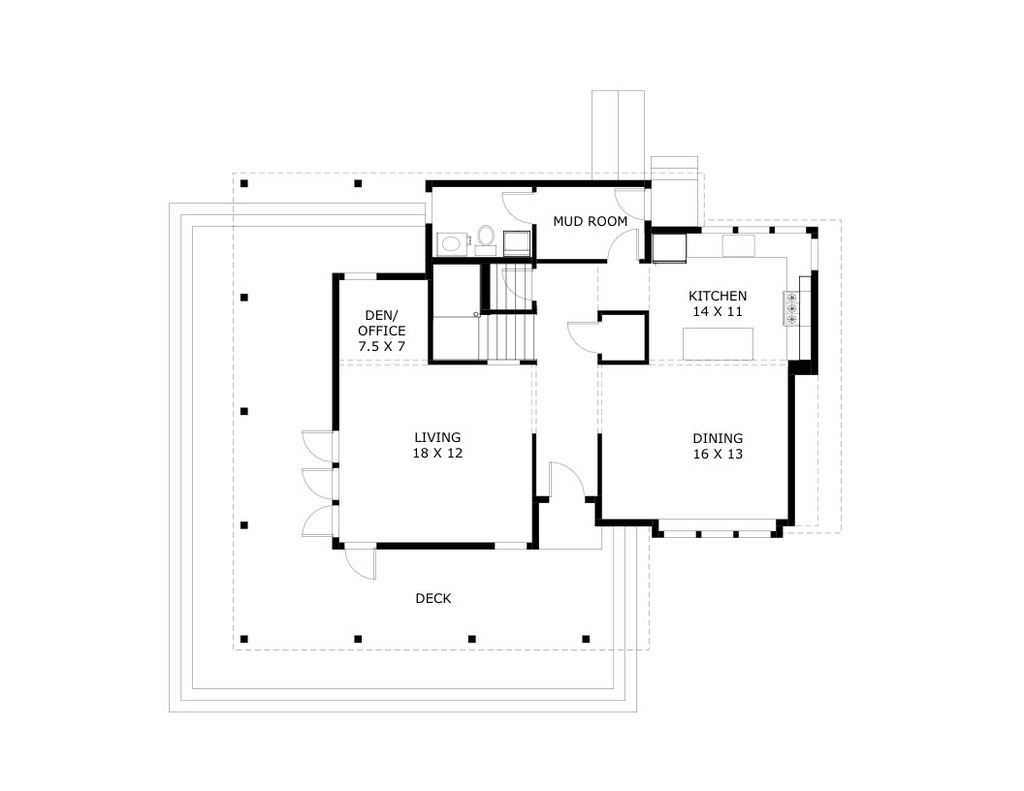door: (298, 460, 344, 537), (544, 457, 589, 507), (560, 315, 608, 359), (294, 426, 348, 465), (497, 186, 545, 224), (616, 185, 660, 224), (604, 230, 641, 266), (345, 538, 375, 581)
large_sink: (464, 225, 504, 259)
small_sink: (427, 230, 465, 257)
stairs: (430, 258, 548, 363)
window: (663, 527, 775, 543), (486, 531, 528, 558), (343, 269, 380, 287)
